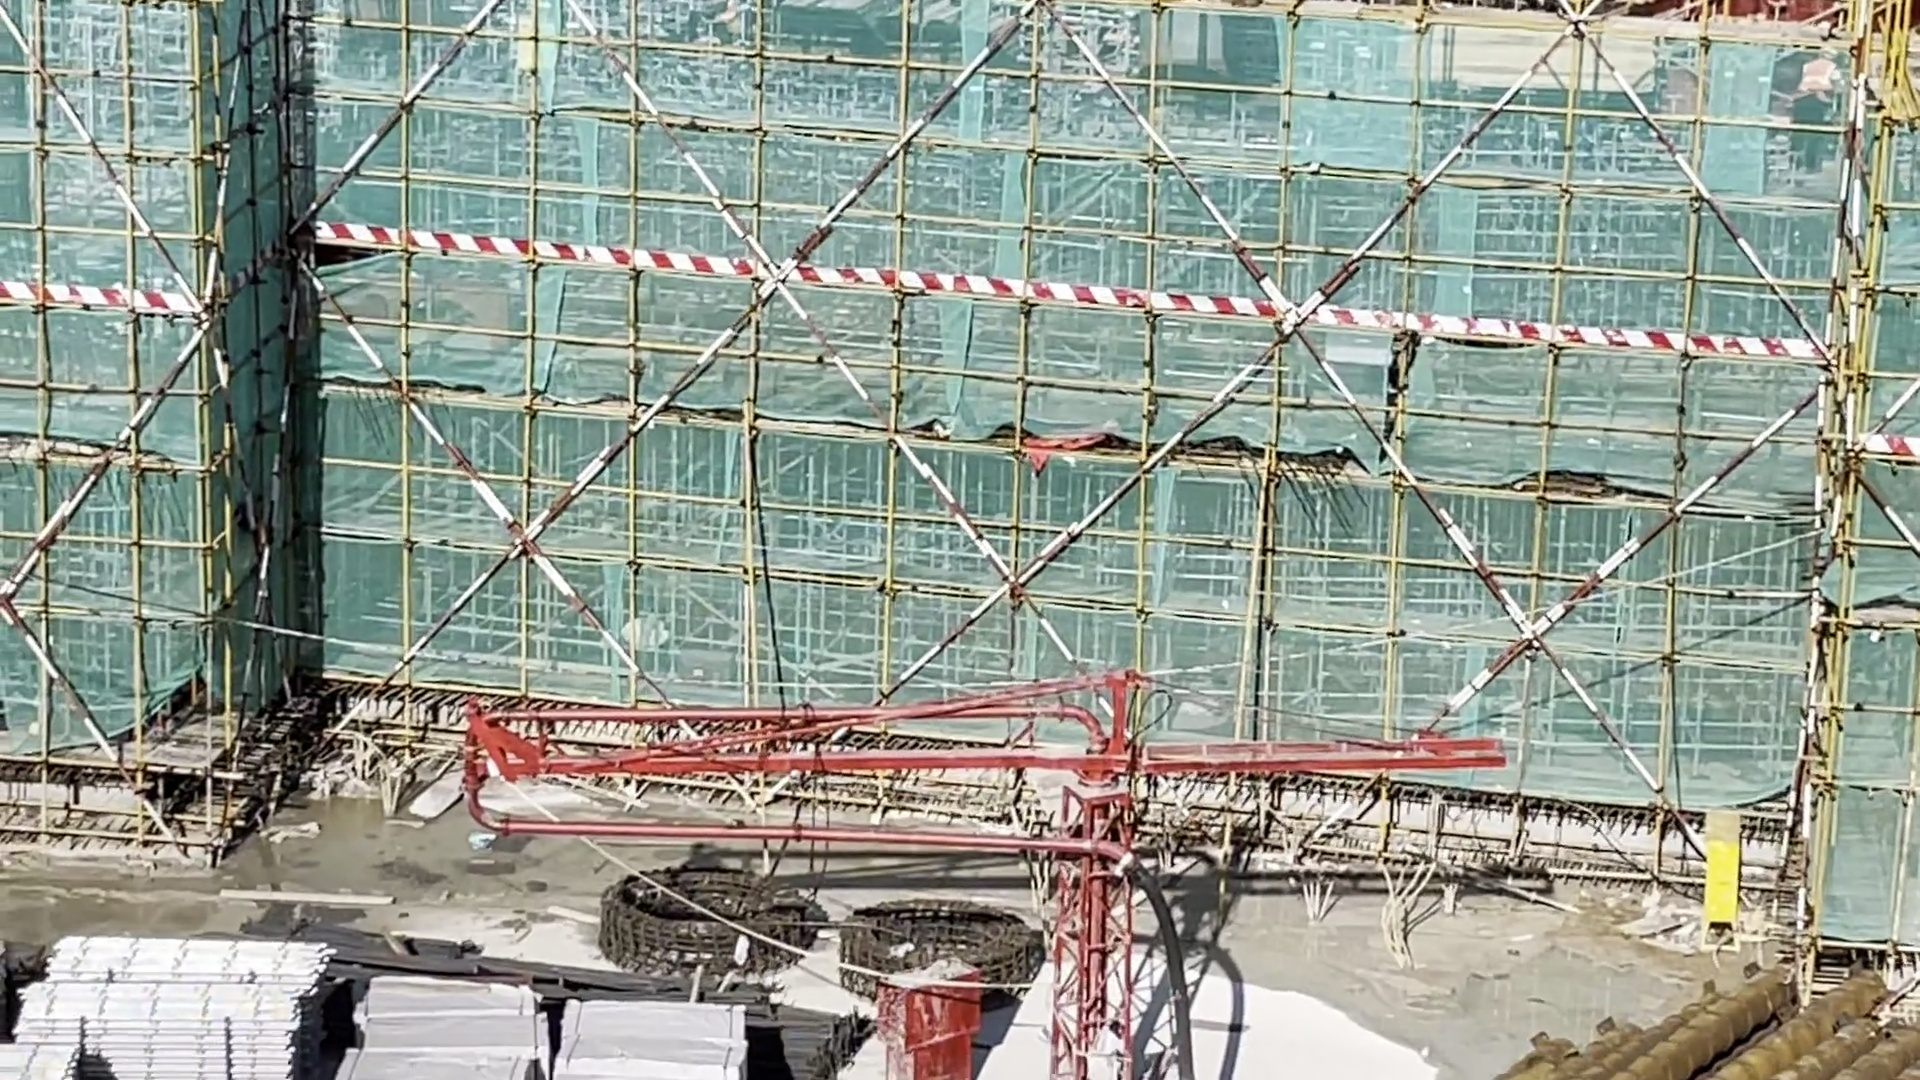ebox: (1708, 808, 1746, 942)
rebar: (272, 930, 858, 1073), (1408, 945, 1888, 1080)
scaffold: (88, 942, 334, 1072)
